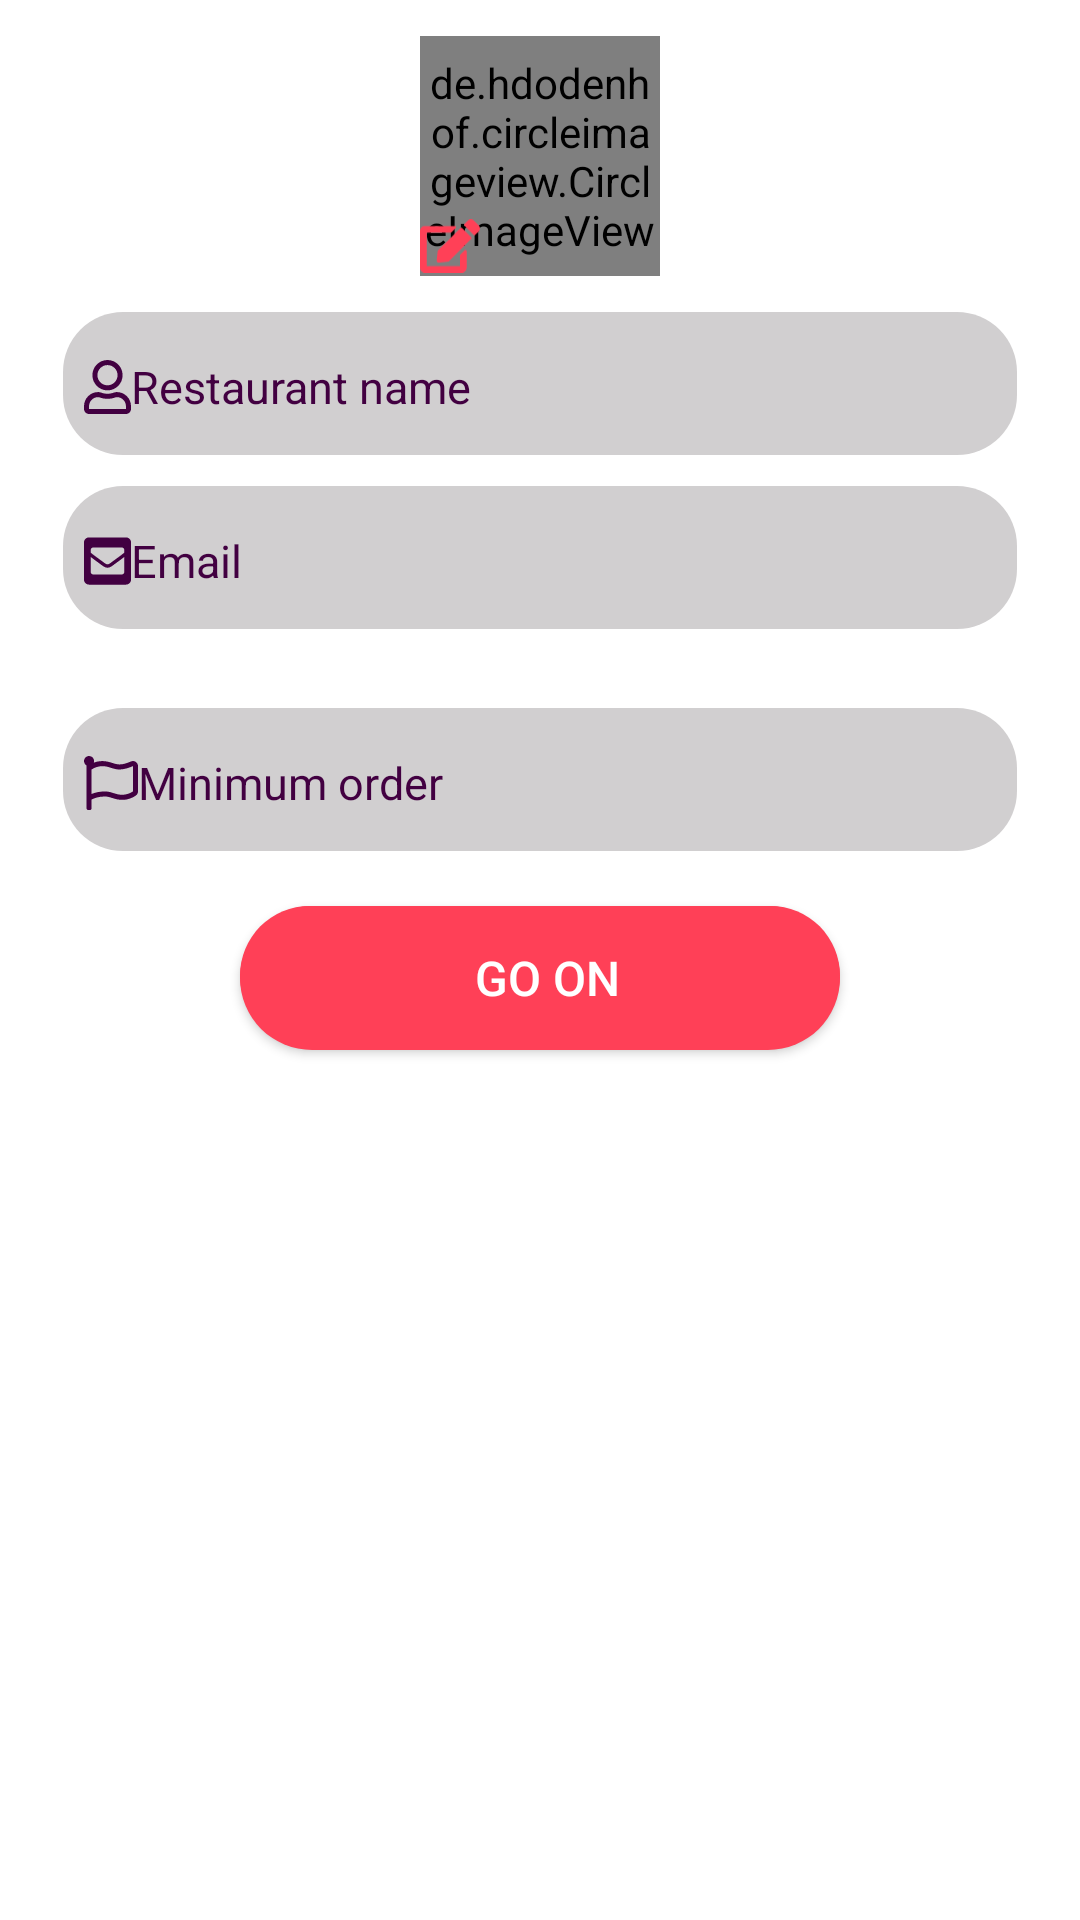

Screen size 1080 × 1920. Icon name, then its center in pixels as (x,y):
edit: (450,246)
